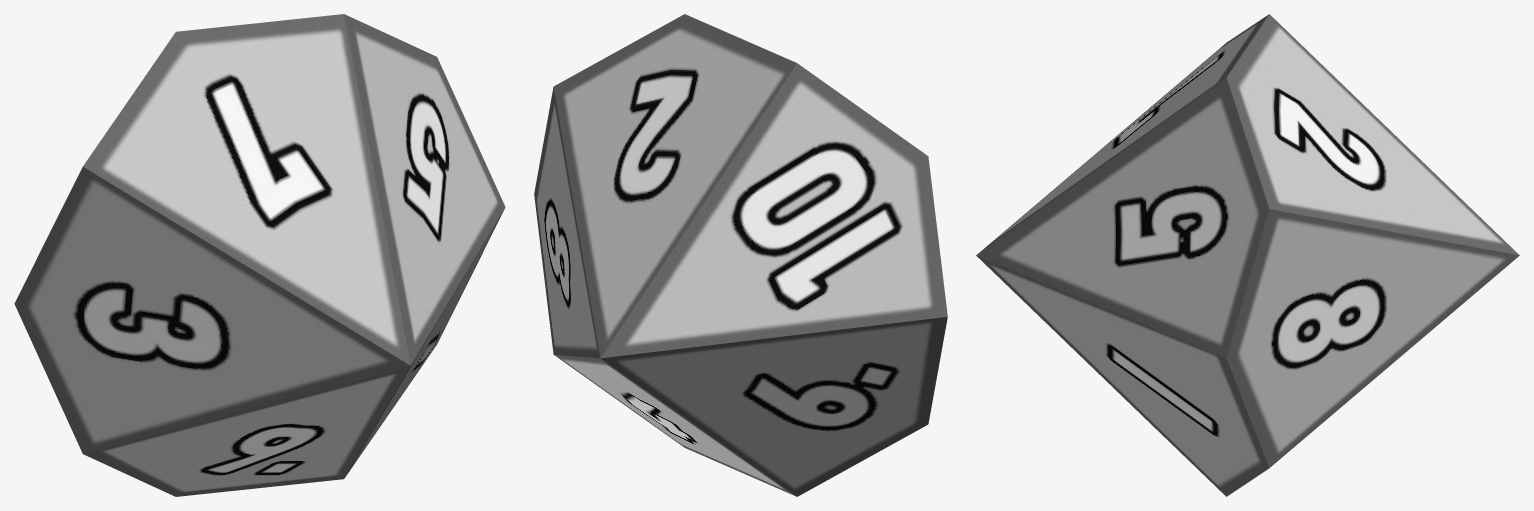
3 views of the same model, side by side, from view 1: azimuth 30°, elevation 25°; view 2: azimuth 150°, elevation 25°; view 3: azimuth 270°, elevation 25° (orthographic). The views are drawn at different scales.
Parts seen in each view (by area): view 1: NGon01; view 2: NGon01; view 3: NGon01.
Boxes of the visible parts, x1=… form: NGon01: x1=14, y1=14, x2=505, y2=496; NGon01: x1=534, y1=14, x2=947, y2=496; NGon01: x1=976, y1=14, x2=1519, y2=496.
Bounding box in the file's own units: 0.2677 × 0.2546 × 0.2992.
Materials: 1 (1 with a texture image).
